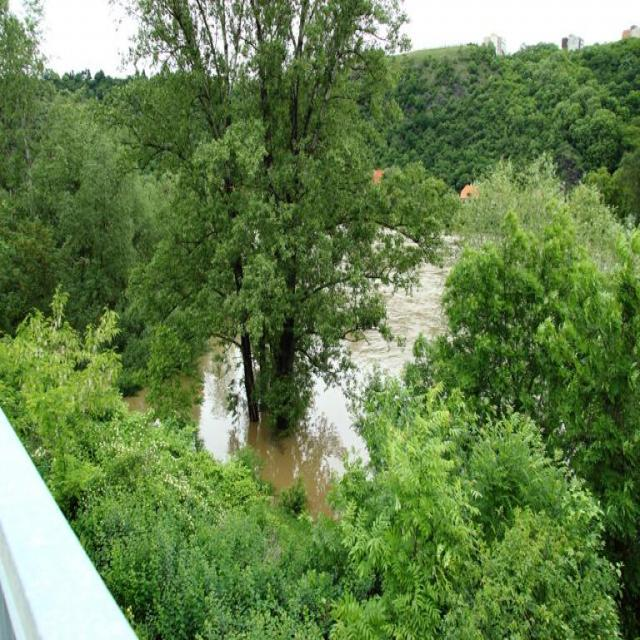flood: (162, 326, 381, 514)
